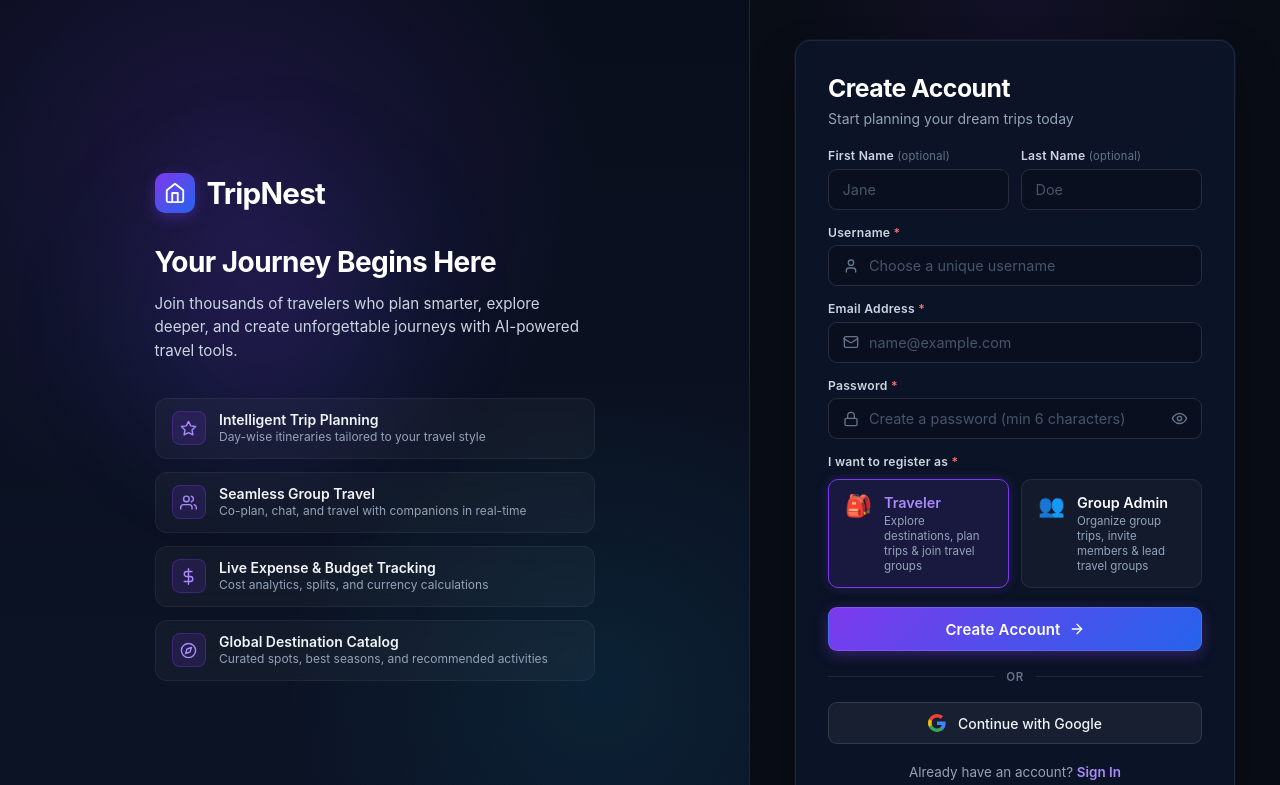
Test case: Form Validation & Submission Behaviors › Signup Form Validation › validates missing required fields on submit
Click the button "Create Account".
click(1015, 629)  # box [828,607,1202,651]
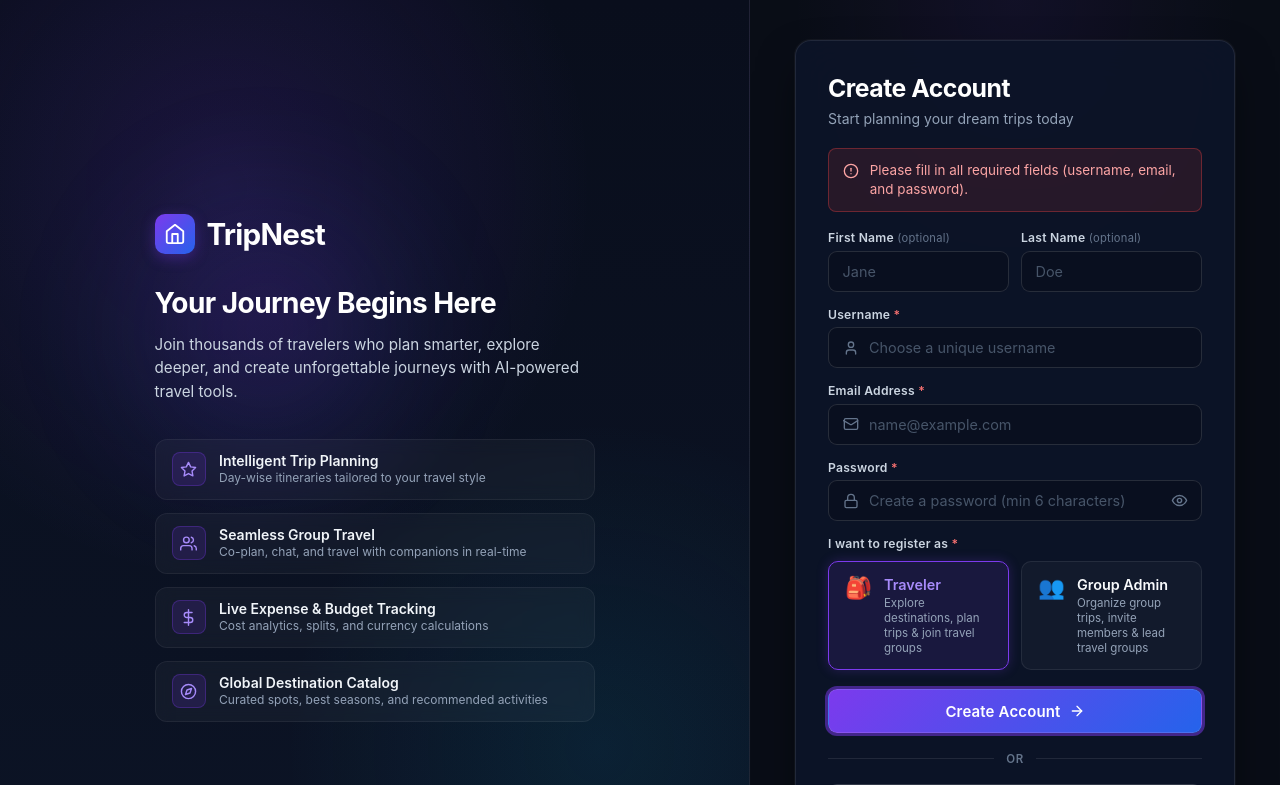
Result: the text "Please fill in all required fields (username, email, and password)." is shown at [870,161,1187,199]
